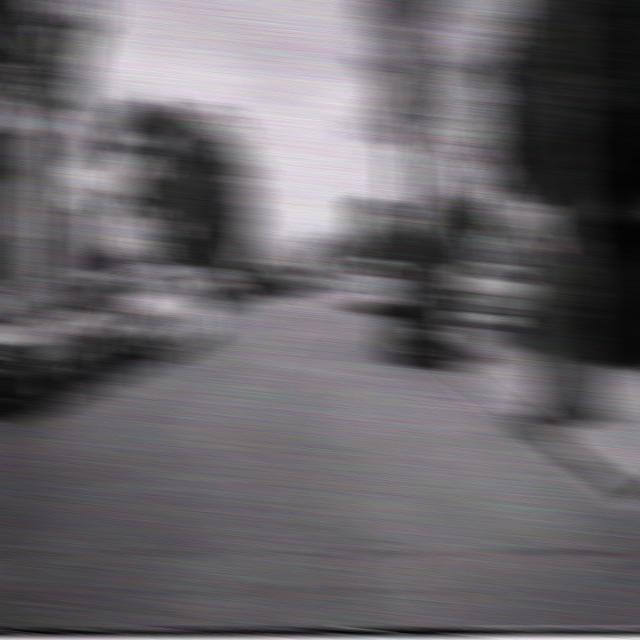doNotEnter: (126, 225, 156, 256)
stop: (386, 207, 418, 237)
